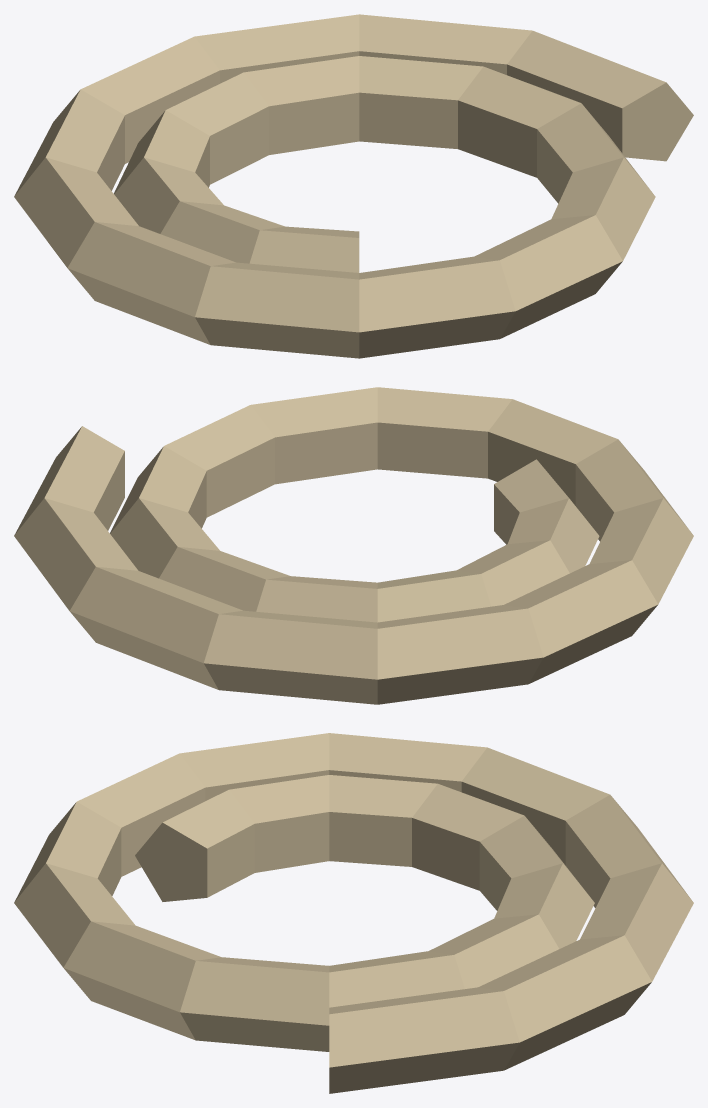
Rendered from prop-rope-coil-dock.fbx.
3 renders of one model, top to bottom at view 1: azimuth 30°, elevation 25°; view 2: azimuth 150°, elevation 25°; view 3: azimuth 270°, elevation 25°, orthographic. The views are drawn at different scales.
Visible parts, largest first — view 1: prop-rope-coil-dock; view 2: prop-rope-coil-dock; view 3: prop-rope-coil-dock.
Boxes of the visible parts, box(x1,y1,x2,y2) form: prop-rope-coil-dock: box(14, 14, 693, 358); prop-rope-coil-dock: box(14, 387, 693, 704); prop-rope-coil-dock: box(14, 733, 693, 1093).
Bounding box in the file's own units: 55.25 × 6.66 × 51.5.
